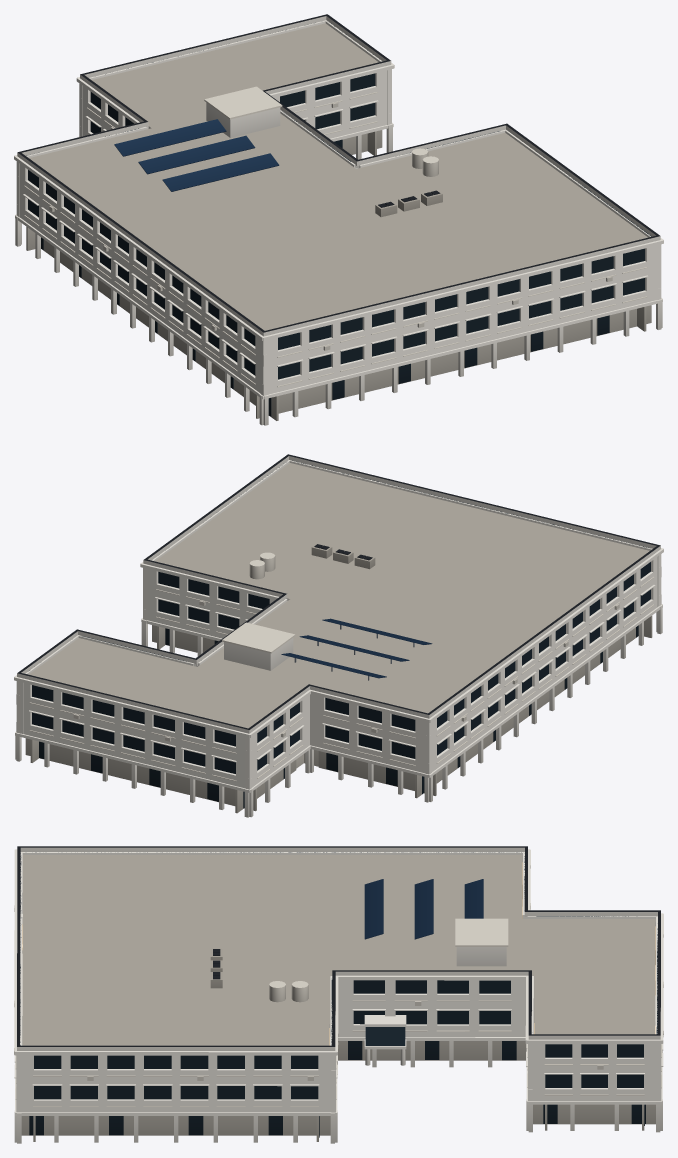
Rendered from arts_block.glb.
3 views of the same model, one above another, from view 1: azimuth 30°, elevation 25°; view 2: azimuth 150°, elevation 25°; view 3: azimuth 270°, elevation 25° (orthographic). The views are drawn at different scales.
Parts seen in each view (by area): view 1: LOD0_High_RoofSlabConcrete, LOD0_High_StuccoWhite, LOD1_Medium_StuccoWhite, LOD1_Medium_RecessedCavityGlass, LOD0_High_StuccoWarmTrim, LOD0_High_SolarPV, LOD0_High_DarkAnodizedSteel, LOD0_High_RecessedCavityGlass; view 2: LOD0_High_RoofSlabConcrete, LOD0_High_StuccoWhite, LOD1_Medium_StuccoWhite, LOD1_Medium_RecessedCavityGlass, LOD0_High_StuccoWarmTrim, LOD0_High_DarkAnodizedSteel, LOD0_High_RecessedCavityGlass, LOD0_High_SolarPV; view 3: LOD0_High_RoofSlabConcrete, LOD0_High_StuccoWhite, LOD0_High_StuccoWarmTrim, LOD1_Medium_RecessedCavityGlass, LOD1_Medium_StuccoWhite, LOD0_High_DarkAnodizedSteel, LOD0_High_SolarPV, LOD0_High_RecessedCavityGlass, LOD0_High_CurtainGlass.
Boxes of the visible parts, x1=… form: LOD0_High_RoofSlabConcrete: x1=29, y1=23, x2=647, y2=330; LOD0_High_StuccoWhite: x1=14, y1=16, x2=663, y2=425; LOD1_Medium_StuccoWhite: x1=16, y1=21, x2=661, y2=395; LOD1_Medium_RecessedCavityGlass: x1=26, y1=23, x2=651, y2=379; LOD0_High_StuccoWarmTrim: x1=24, y1=86, x2=651, y2=420; LOD0_High_SolarPV: x1=114, y1=119, x2=279, y2=191; LOD0_High_DarkAnodizedSteel: x1=17, y1=14, x2=659, y2=332; LOD0_High_RecessedCavityGlass: x1=41, y1=139, x2=609, y2=416; LOD0_High_RoofSlabConcrete: x1=29, y1=463, x2=649, y2=728; LOD0_High_StuccoWhite: x1=14, y1=456, x2=663, y2=817; LOD1_Medium_StuccoWhite: x1=16, y1=460, x2=661, y2=789; LOD1_Medium_RecessedCavityGlass: x1=29, y1=460, x2=650, y2=773; LOD0_High_StuccoWarmTrim: x1=25, y1=552, x2=654, y2=813; LOD0_High_DarkAnodizedSteel: x1=17, y1=454, x2=660, y2=729; LOD0_High_RecessedCavityGlass: x1=39, y1=625, x2=638, y2=808; LOD0_High_SolarPV: x1=281, y1=618, x2=432, y2=678; LOD0_High_RoofSlabConcrete: x1=22, y1=855, x2=655, y2=1045; LOD0_High_StuccoWhite: x1=14, y1=847, x2=663, y2=1143; LOD0_High_StuccoWarmTrim: x1=15, y1=918, x2=661, y2=1141; LOD1_Medium_RecessedCavityGlass: x1=20, y1=852, x2=657, y2=1099; LOD1_Medium_StuccoWhite: x1=16, y1=852, x2=660, y2=1112; LOD0_High_DarkAnodizedSteel: x1=17, y1=846, x2=660, y2=1046; LOD0_High_SolarPV: x1=364, y1=879, x2=483, y2=939; LOD0_High_RecessedCavityGlass: x1=29, y1=1041, x2=645, y2=1137; LOD0_High_CurtainGlass: x1=365, y1=1027, x2=405, y2=1045.
Size of the model in its own units: 59.66 by 15.47 by 80.66.
